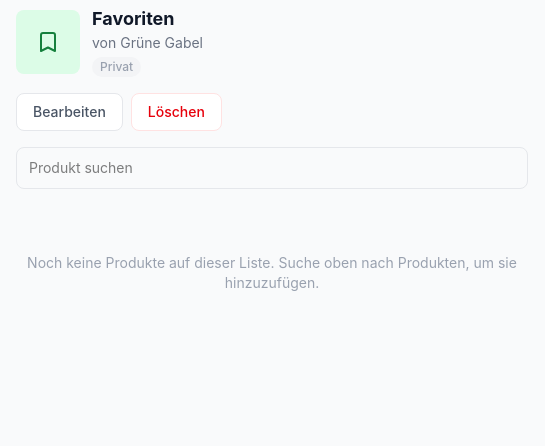
Scenario: ListView › given the viewer owns the list › preselects the current visibility when editing
Expected: the heading "Favoriten" is shown, x1=92 y1=8 x2=174 y2=29
Click the button with aria-label "Liste bearbeiten": click(69, 112) x1=16 y1=92 x2=123 y2=130
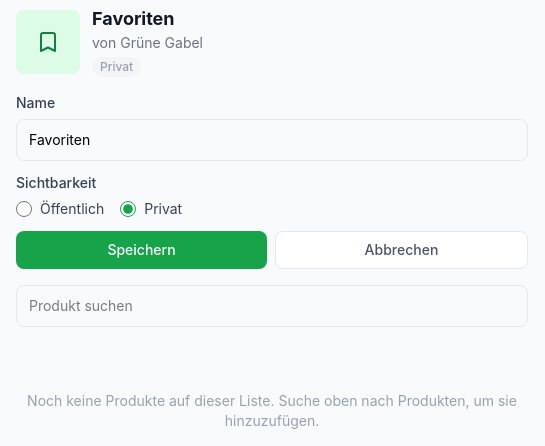
Expected: the radio button labelled "Privat" is checked, x1=120 y1=200 x2=136 y2=216
